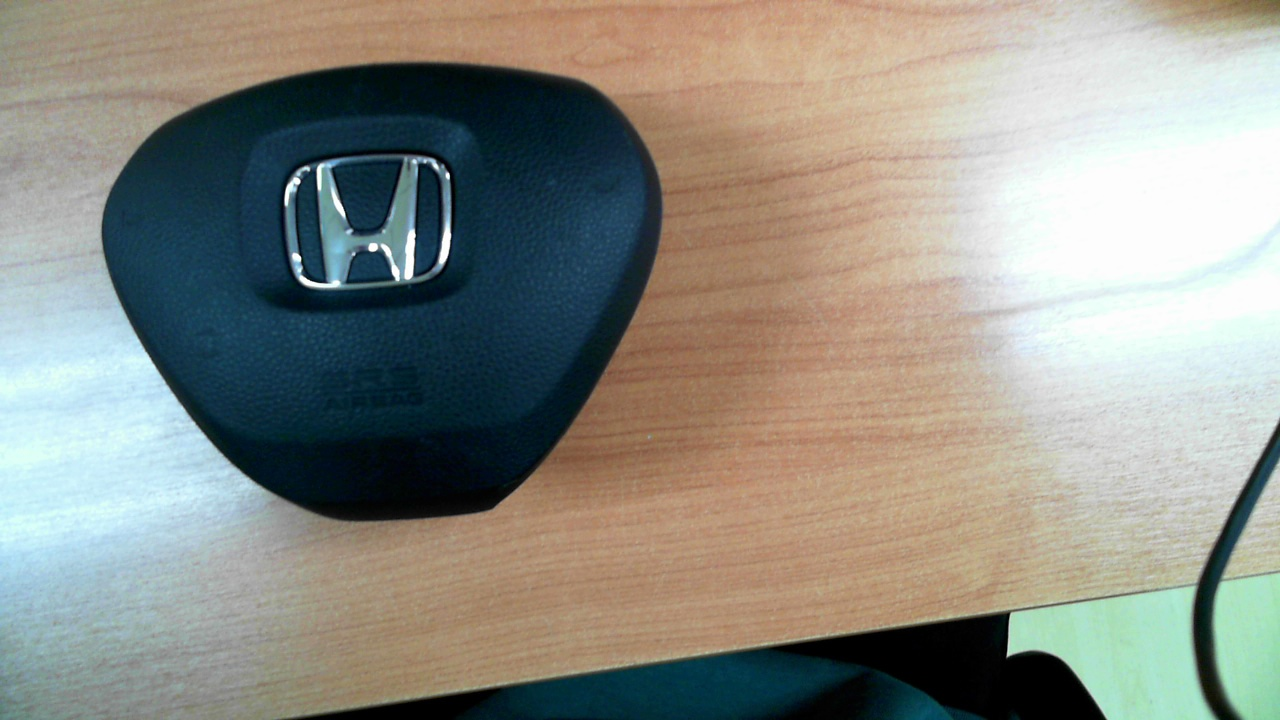Airbag: (99, 60, 663, 522)
Honda: (284, 153, 453, 289)
